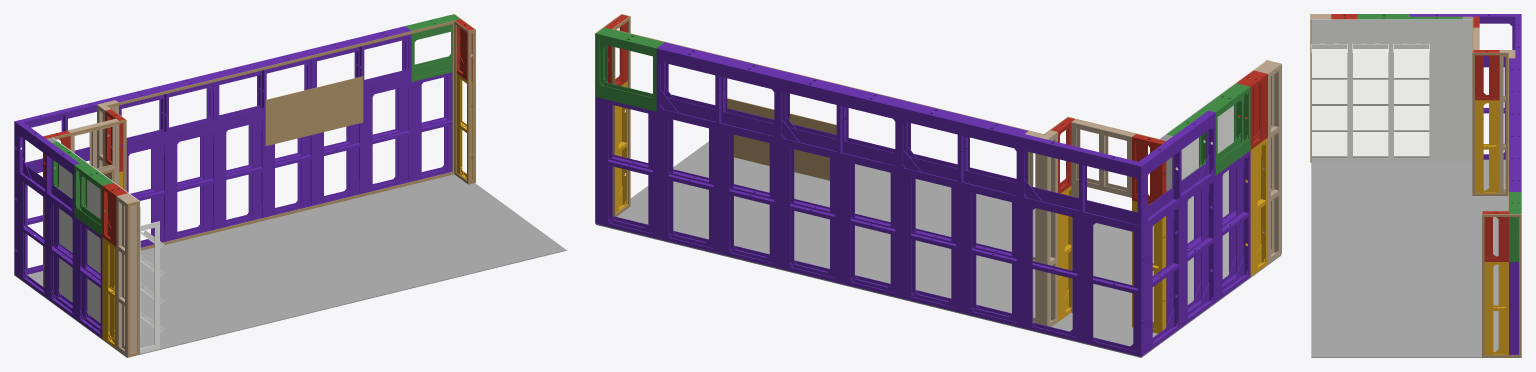
3 views of the same model, side by side, from view 1: azimuth 30°, elevation 25°; view 2: azimuth 150°, elevation 25°; view 3: azimuth 270°, elevation 25° (orthographic). The views are drawn at different scales.
Parts seen in each view (by area): view 1: Пол 9000х4000х16, Body17 (×13), Body18 (×11), Закладная телевизора, Баннер ЗБ-4 ДСП 16, Body22 (×2), Баннер ЗБ-1 ДСП 16, Лист ЛДСП 1, Лист ЛДСП 2, Боковина 2, Лист ЛДСП 4, Боковина 2 2000 мм (+7 smaller); view 2: Body18 (×25), Пол 9000х4000х16, Body17 (×12), Body22 (×9), Закладная телевизора, Лист ЛДСП 4, Body19, Body23, Боковина 1 2000 мм, Стойка 1, Body15, Лист ЛДСП 3 (+5 smaller); view 3: Пол 9000х4000х16, Лист ЛДСП 1, Полка 1 (×3), Body16 (×10), Лист ЛДСП 4, Полка 2 (×3), Лист ЛДСП 3, Полка 3 (×3), Полка 4 (×3), Body23 (×3), Body22 (×2), Body1 (×2) (+15 smaller).
Part boxes in pixels (x1,y1,x2,y2): Пол 9000х4000х16: (14,174,566,357); Body17 (×13): (18,72,421,319); Body18 (×11): (19,29,452,230); Закладная телевизора: (265,76,363,145); Баннер ЗБ-4 ДСП 16: (107,20,454,107); Body22 (×2): (102,76,460,339); Баннер ЗБ-1 ДСП 16: (140,172,454,250); Лист ЛДСП 1: (59,208,72,302); Лист ЛДСП 2: (87,229,100,322); Боковина 2: (140,221,159,353); Лист ЛДСП 4: (86,162,139,218); Боковина 2 2000 мм: (133,252,137,352); Body18 (×25): (596,49,1243,341); Пол 9000х4000х16: (596,141,1281,357); Body17 (×12): (667,97,1222,349); Body22 (×9): (660,108,1257,352); Закладная телевизора: (727,98,836,180); Лист ЛДСП 4: (1200,60,1266,153); Body19: (599,85,652,110); Body23: (1058,194,1064,317); Боковина 1 2000 мм: (1041,209,1046,325); Стойка 1: (1035,208,1040,322); Body15: (1141,227,1145,356); Лист ЛДСП 3: (1158,108,1200,179); Пол 9000х4000х16: (1311,159,1521,357); Лист ЛДСП 1: (1430,67,1472,162); Полка 1 (×3): (1312,49,1429,77); Body16 (×10): (1410,14,1520,354); Лист ЛДСП 4: (1311,19,1409,67); Полка 2 (×3): (1312,79,1429,103); Лист ЛДСП 3: (1410,19,1472,67); Полка 3 (×3): (1312,106,1429,129); Полка 4 (×3): (1312,132,1429,155); Body23 (×3): (1413,16,1512,354); Body22 (×2): (1475,103,1505,348); Body1 (×2): (1489,52,1508,261).
Size of the model in its own units: 9.02 by 3.02 by 4.02.
